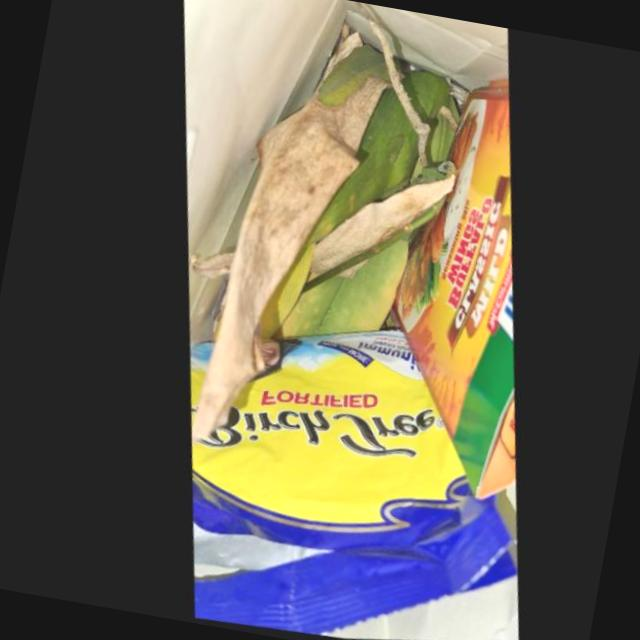bao_bi_thuc_pham: (182, 331, 505, 636), (387, 80, 506, 501)
la_cay: (183, 78, 383, 436), (300, 175, 451, 282)
